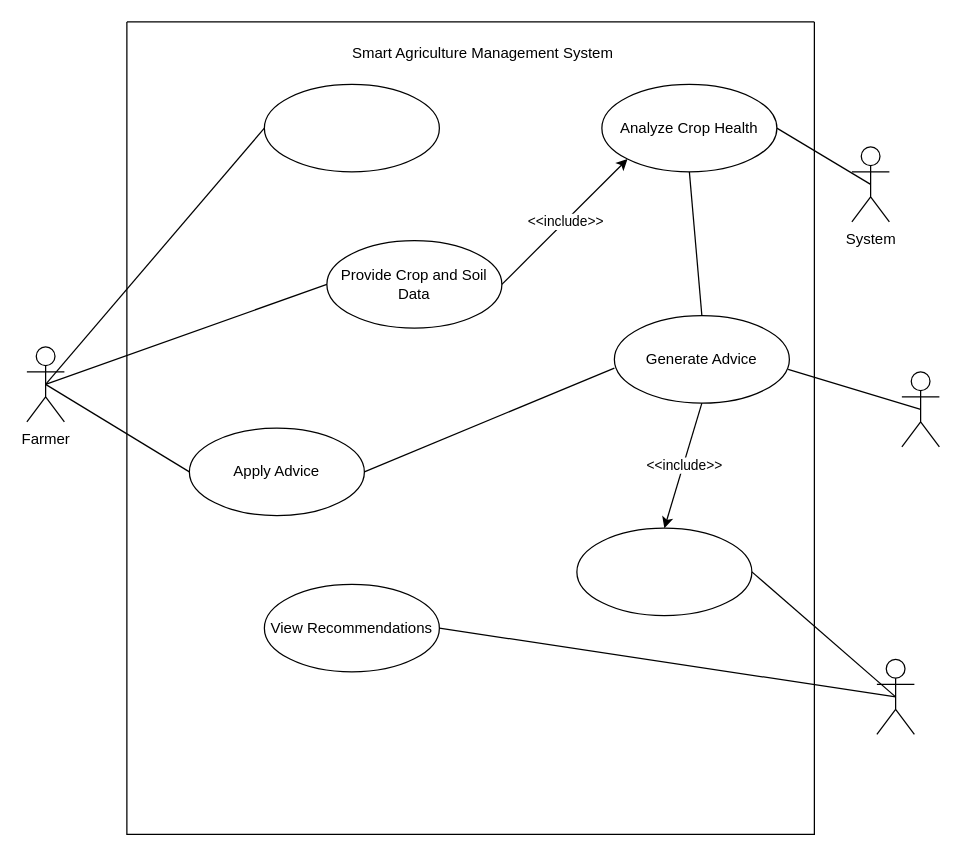
This 964x856 diagram has some shape labels left out. The shapes that lost their labels are listed below. From the top down, each one's centre as x and y in pixels, then its label:
the point at 351,127: Register Farmer
the point at 920,409: Expert
the point at 664,571: Store Advice Records
the point at 895,696: Admin
